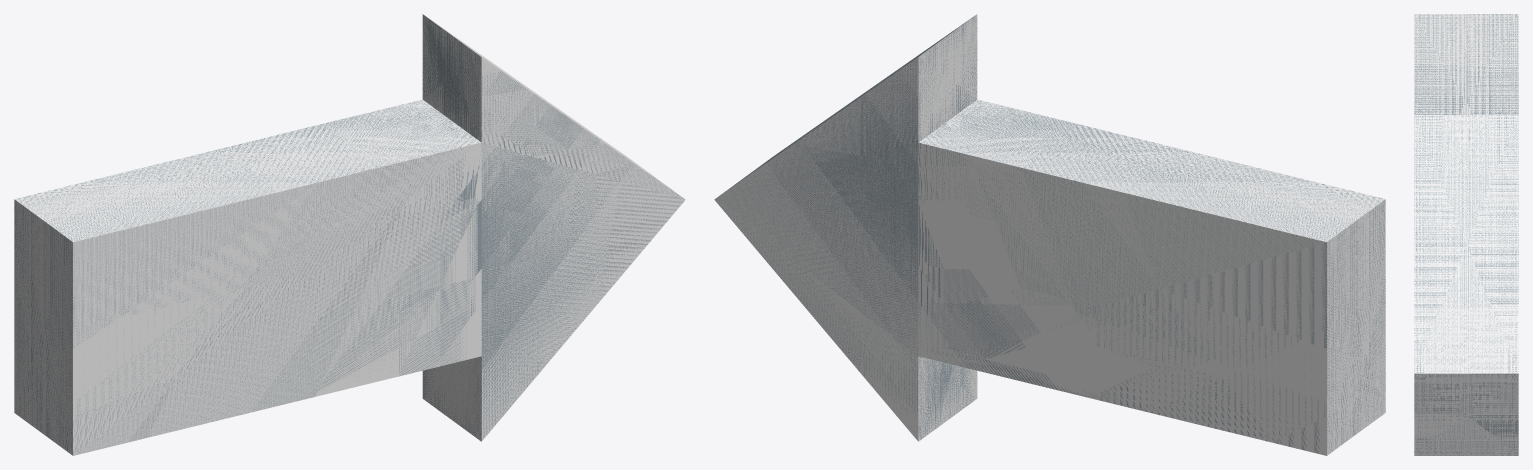
Rendered from flecha.fbx.
The picture shows the model from 3 angles, left to right: view 1: azimuth 30°, elevation 25°; view 2: azimuth 150°, elevation 25°; view 3: azimuth 270°, elevation 25°; orthographic projection. The views are drawn at different scales.
Visible parts, largest first — view 1: Model; view 2: Model; view 3: Model.
Part boxes in pixels (x1,y1,x2,y2): Model: (14, 14, 685, 455); Model: (714, 14, 1385, 455); Model: (1414, 14, 1518, 455).
Bounding box in the file's own units: 0.6 × 0.36 × 0.1.
